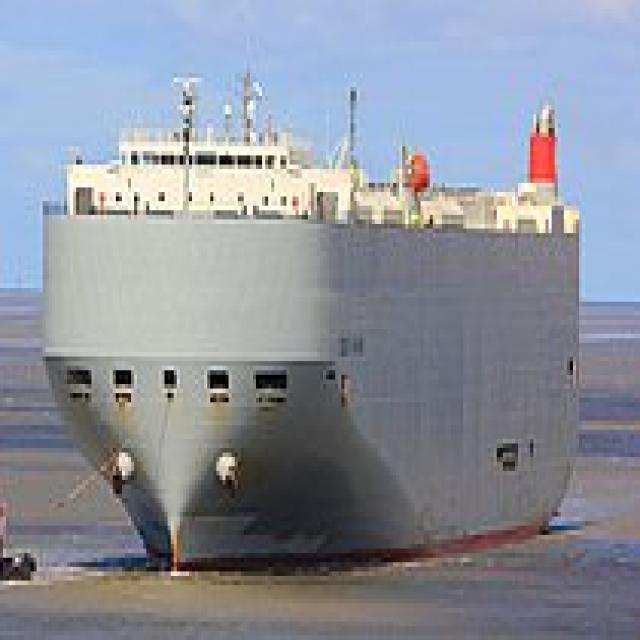Carrier: (34, 59, 582, 576)
